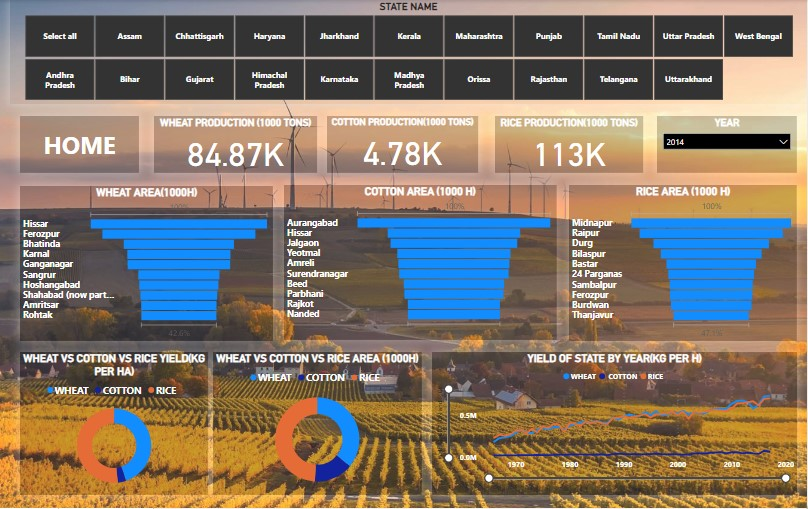

The dashboard page shown, as its layout file describes it:
{"tool":"powerbi","page":{"name":"WHEAT  ","canvas":[1350,850],"ordinal":1},"visuals":[{"type":"funnel","title":"RICE AREA (1000 H)","fields":{"Category":["ICRISAT-District Level Data.State Name","ICRISAT-District Level Data.Dist Name"],"Y":["Sum(ICRISAT-District Level Data.RICE AREA (1000 ha))"]},"box":[952.1,309.5,381.5,261],"z":0},{"type":"slicer","title":"STATE NAME","fields":{"Values":["ICRISAT-District Level Data.State Name"]},"box":[16.7,0,1333.6,174],"z":1000},{"type":"slicer","title":"YEAR","fields":{"Values":["ICRISAT-District Level Data.Year"]},"box":[1099.3,194.1,234.3,95.4],"z":2000},{"type":"card","title":"RICE PRO.(1000 TONS)","fields":{"Values":["Sum(ICRISAT-District Level Data.RICE PRODUCTION (1000 tons))"]},"box":[828.2,194.1,247.6,95.4],"z":3000},{"type":"card","title":"COTTON PRO.(1000 TONS)","fields":{"Values":["Sum(ICRISAT-District Level Data.COTTON PRODUCTION (1000 tons))"]},"box":[547.1,194.1,252.7,95.4],"z":4000},{"type":"card","title":"WHEAT PRO. (1000 TONS)","fields":{"Values":["Sum(ICRISAT-District Level Data.WHEAT PRODUCTION (1000 tons))"]},"box":[257.7,194.1,272.7,95.4],"z":5000},{"type":"funnel","title":"COTTON AREA (1000 H)","fields":{"Category":["ICRISAT-District Level Data.State Name","ICRISAT-District Level Data.Dist Name"],"Y":["Sum(ICRISAT-District Level Data.COTTON AREA (1000 ha))"]},"box":[475.9,309.3,455.6,259.3],"z":6000},{"type":"funnel","title":"WHEAT AREA(1000H)","fields":{"Category":["ICRISAT-District Level Data.State Name","ICRISAT-District Level Data.Dist Name"],"Y":["Sum(ICRISAT-District Level Data.WHEAT AREA (1000 ha))"]},"box":[33.5,311.2,423.3,259.4],"z":7000},{"type":"donutChart","title":"WHEAT VS COTTON VS RICE YIELD(KG PER HA)","fields":{"Y":["Sum(ICRISAT-District Level Data.WHEAT YIELD (Kg per ha))","Sum(ICRISAT-District Level Data.COTTON YIELD (Kg per ha))","Sum(ICRISAT-District Level Data.RICE YIELD (Kg per ha))"]},"box":[33.9,588.3,314.9,239.5],"z":8000},{"type":"donutChart","title":"WHEAT VS COTTON VS RICE AREA (1000H)","fields":{"Y":["Sum(ICRISAT-District Level Data.WHEAT AREA (1000 ha))","Sum(ICRISAT-District Level Data.COTTON AREA (1000 ha))","Sum(ICRISAT-District Level Data.RICE AREA (1000 ha))"]},"box":[356.4,588.3,348.8,239.5],"z":9000},{"type":"shape","box":[33.5,194.1,199.1,95.4],"z":10000},{"type":"lineChart","title":"YIELD OF STATE BY YEAR(KG PER H)","fields":{"Category":["ICRISAT-District Level Data.Year"],"Y":["Sum(ICRISAT-District Level Data.WHEAT YIELD (Kg per ha))","Sum(ICRISAT-District Level Data.COTTON YIELD (Kg per ha))","Sum(ICRISAT-District Level Data.RICE YIELD (Kg per ha))"]},"box":[722.8,589,610.7,239.3],"z":11000}]}

Visuals, with their boxes in screenshot pixels (x1, y1, x2, y2), scaled from the page's 1350x850 canvas onto the 808x509 screenshot:
"RICE AREA (1000 H)" funnel: 570,185,798,342
"STATE NAME" slicer: 10,0,807,104
"YEAR" slicer: 658,116,798,173
"RICE PRO.(1000 TONS)" card: 496,116,644,173
"COTTON PRO.(1000 TONS)" card: 327,116,479,173
"WHEAT PRO. (1000 TONS)" card: 154,116,317,173
"COTTON AREA (1000 H)" funnel: 285,185,558,340
"WHEAT AREA(1000H)" funnel: 20,186,273,342
"WHEAT VS COTTON VS RICE YIELD(KG PER HA)" donutChart: 20,352,209,496
"WHEAT VS COTTON VS RICE AREA (1000H)" donutChart: 213,352,422,496
shape: 20,116,139,173
"YIELD OF STATE BY YEAR(KG PER H)" lineChart: 433,353,798,496
